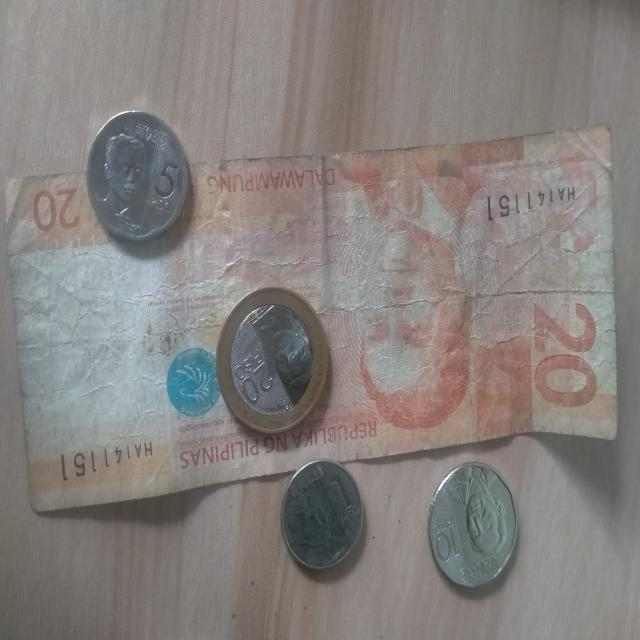10_New_Front: (422, 460, 518, 590)
1_New_Front: (286, 466, 355, 564)
5_New_Front: (101, 122, 182, 226)
